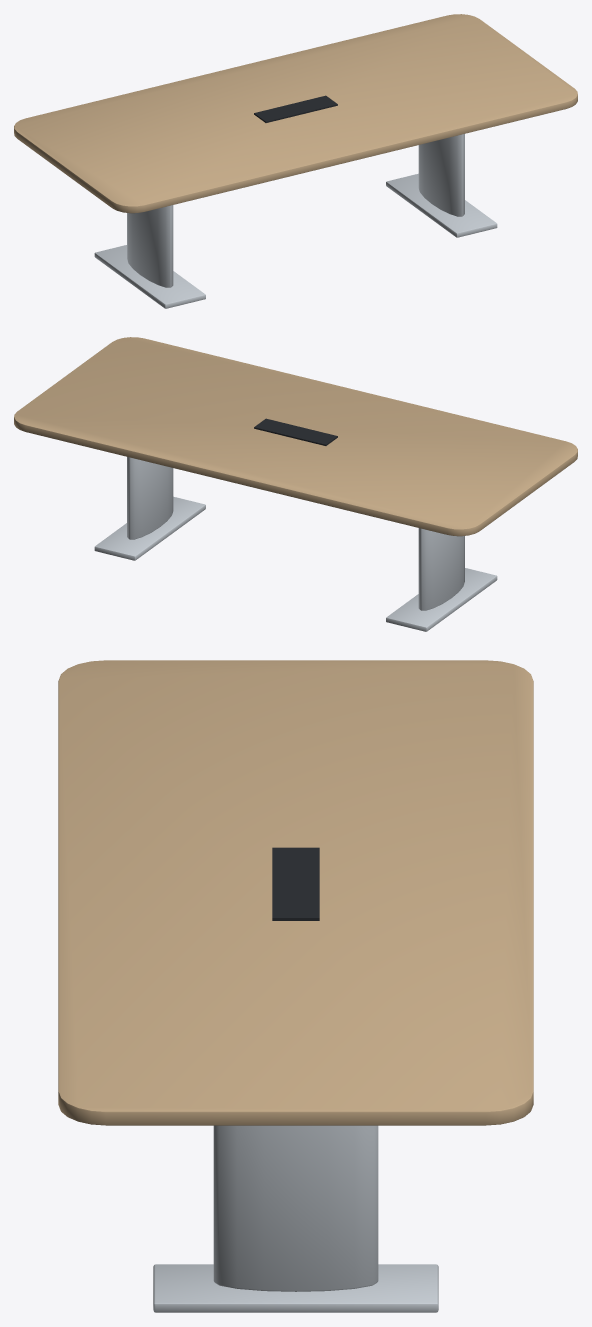
Rendered from meeting-table-m.glb.
3 renders of one model, top to bottom at view 1: azimuth 30°, elevation 25°; view 2: azimuth 150°, elevation 25°; view 3: azimuth 270°, elevation 25°, orthographic. The views are drawn at different scales.
Visible parts, largest first — view 1: meeting-table-m; view 2: meeting-table-m; view 3: meeting-table-m.
Part boxes in pixels (left/top/right/bottom): meeting-table-m: left=14, top=14, right=577, bottom=308; meeting-table-m: left=14, top=337, right=577, bottom=631; meeting-table-m: left=58, top=660, right=533, bottom=1312.
Size of the model in its own units: 2.7 by 0.748 by 1.2.
